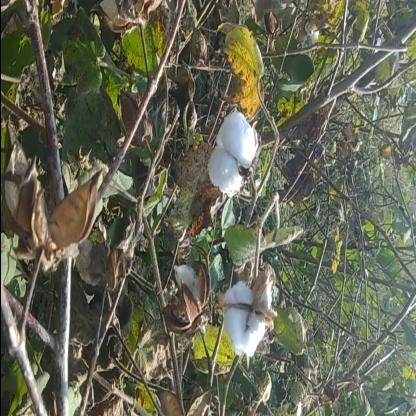cotton_ready: (204, 262, 277, 378), (199, 108, 259, 216)
